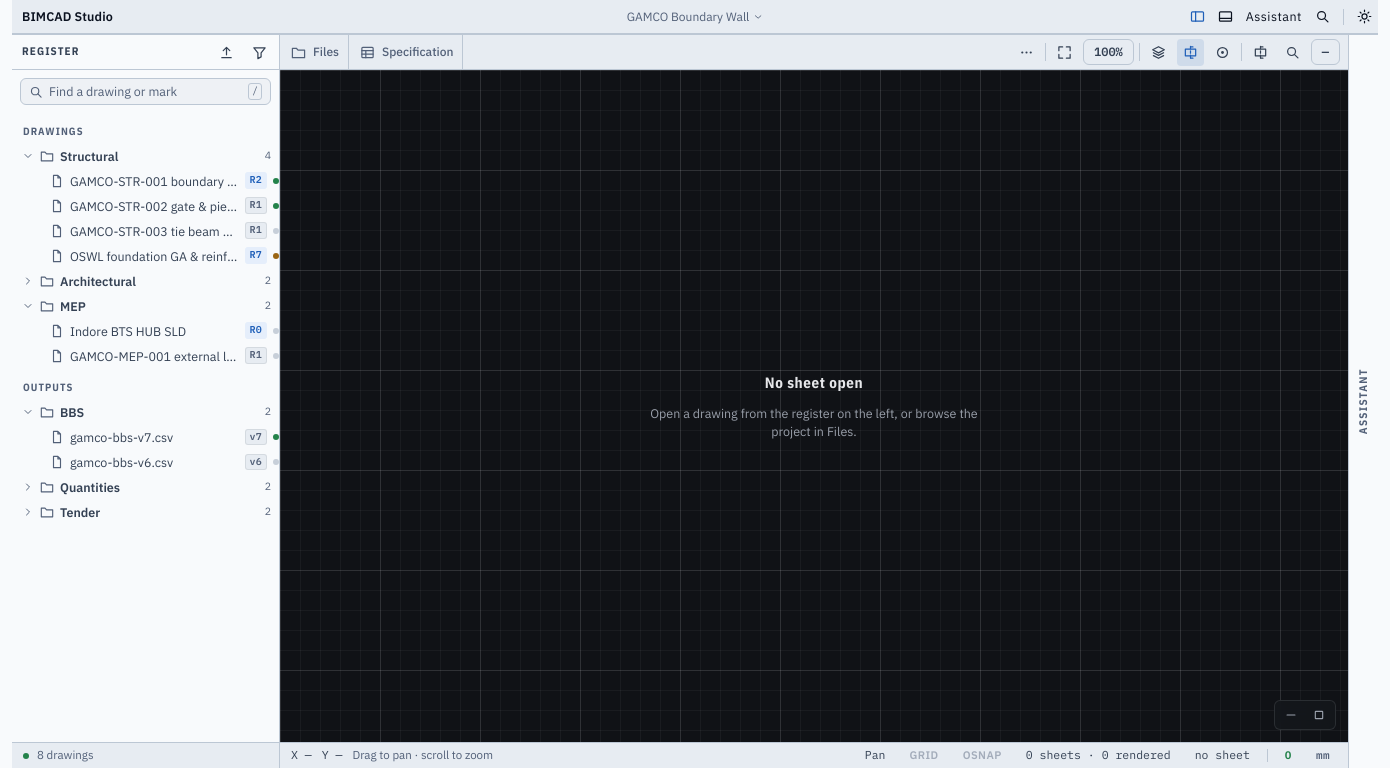
Test case: register tree › the chevron expands a folder in place without leaving the register
This screenshot has width=1390, height=768.
What coordinates should you click on to do the following:
click the button named "Expand Architectural"
I would click on:
 (28, 281)
Its box is x1=22 y1=275 x2=34 y2=287.
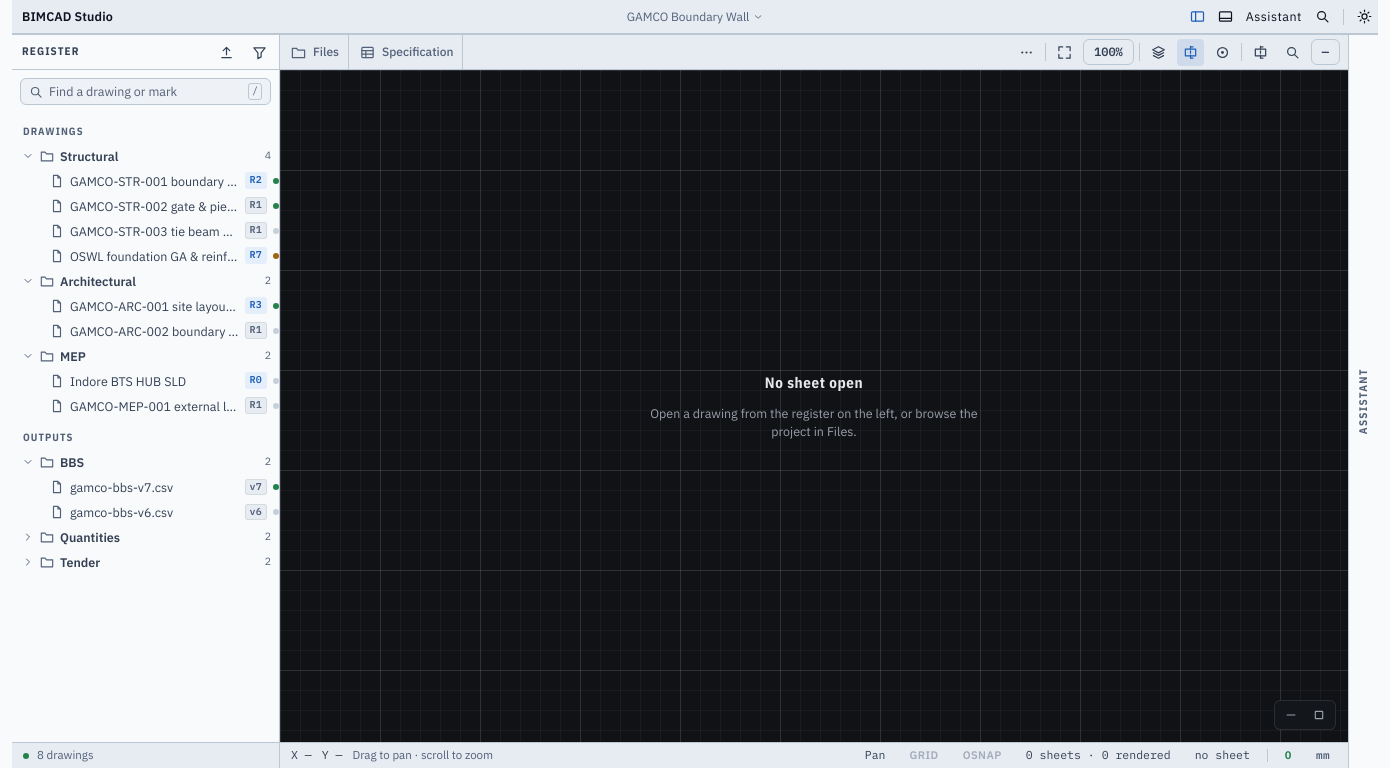
Check: the text "GAMCO-ARC-001 site layout plan" is shown, box x1=70 y1=297 x2=239 y2=315
What coordinates should you click on to do the following:
click the button named "Collapse Architectural"
I would click on:
 (28, 281)
Its box is x1=22 y1=275 x2=34 y2=287.
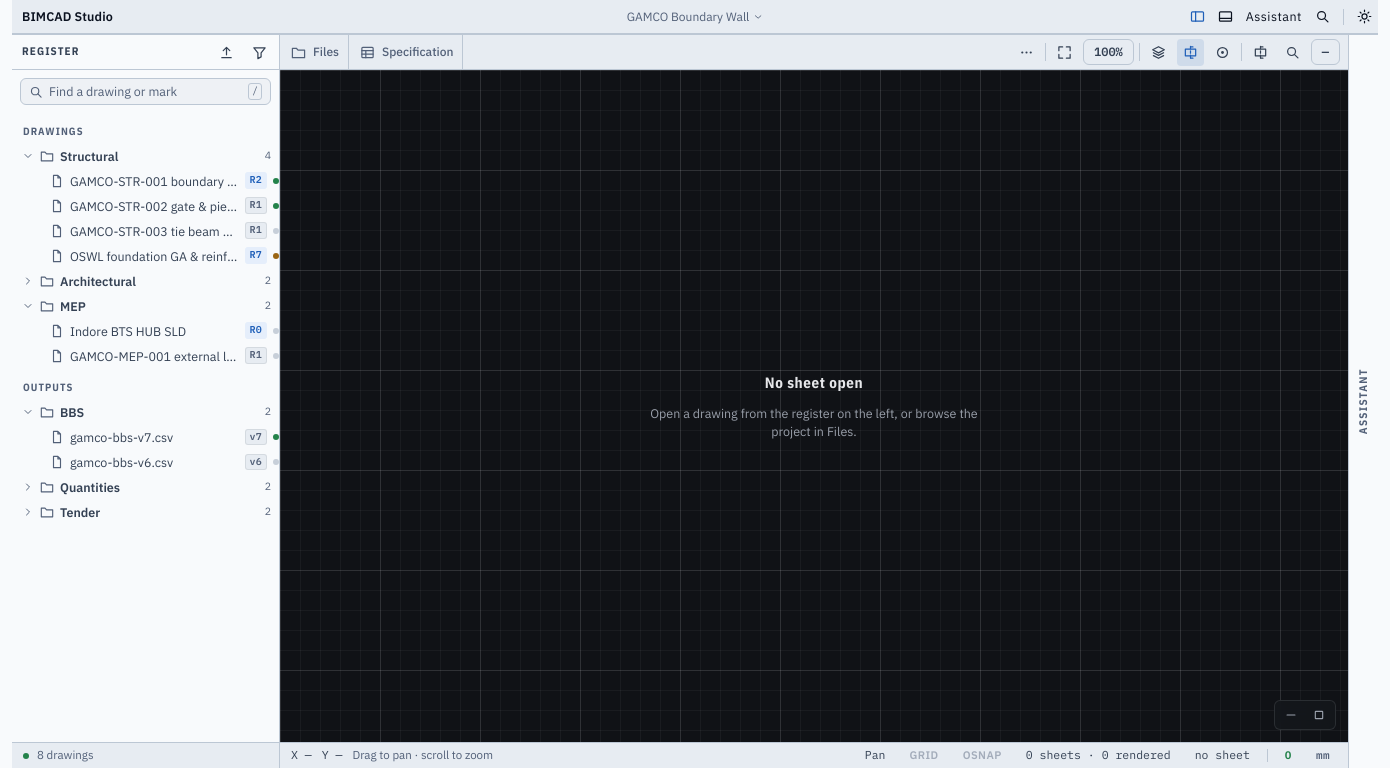
Check: the button "GAMCO-ARC-001 site layout plan" is gone
